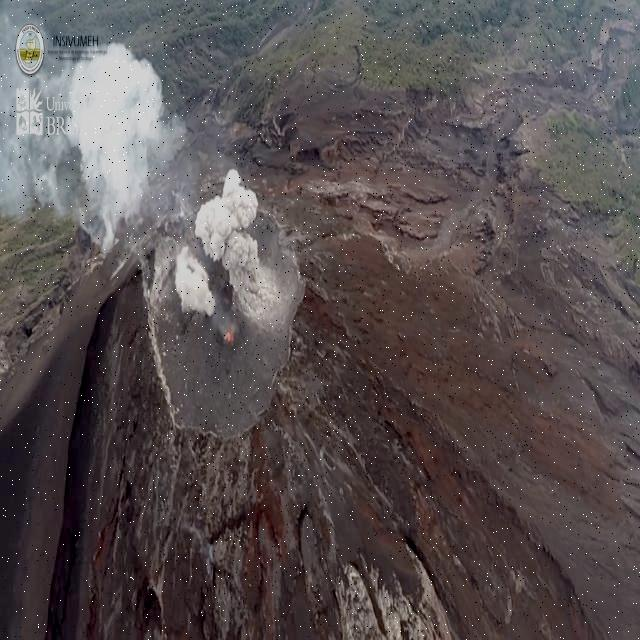Plume: (66, 32, 178, 235), (192, 159, 274, 308), (167, 242, 216, 324)
Summit: (132, 188, 315, 461)
